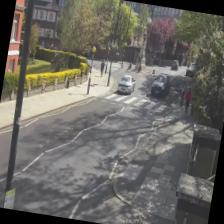person: (182, 87, 193, 114)
